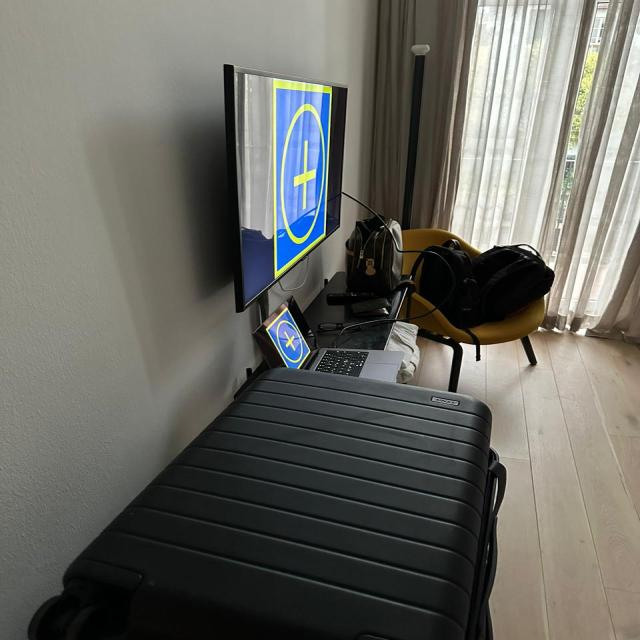Marker: (272, 79, 329, 278), (266, 307, 310, 368)
